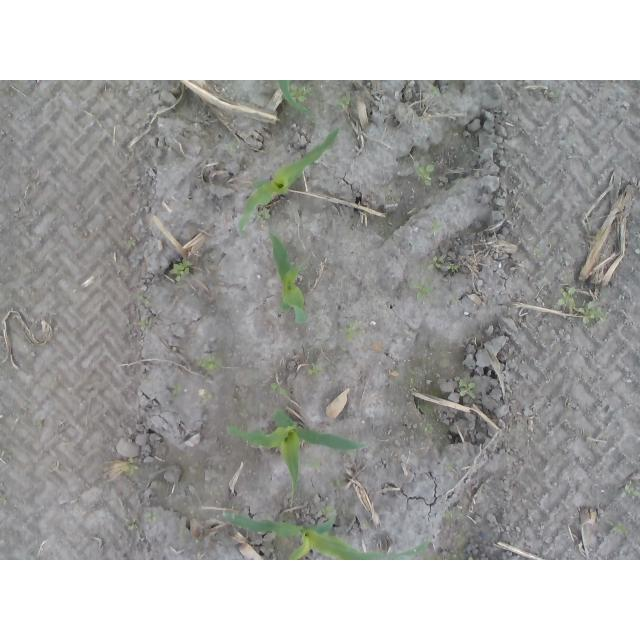Maize: (226, 411, 371, 512), (237, 129, 340, 235), (221, 510, 431, 560), (270, 235, 311, 325), (280, 81, 312, 119)
Weeds: (557, 285, 607, 323), (342, 323, 366, 345), (411, 279, 433, 301), (172, 261, 191, 283), (457, 381, 477, 400), (291, 85, 312, 103), (417, 165, 434, 187), (199, 356, 220, 372), (428, 257, 448, 272), (620, 483, 640, 497), (271, 383, 290, 397), (336, 95, 350, 109), (308, 364, 321, 379), (126, 458, 138, 474), (431, 219, 442, 234), (613, 525, 627, 536), (332, 482, 346, 491), (140, 318, 149, 332), (201, 393, 212, 403), (128, 520, 139, 530), (311, 461, 321, 471), (127, 240, 136, 251), (534, 247, 543, 258), (449, 263, 458, 272), (146, 512, 155, 521), (138, 297, 147, 304)
